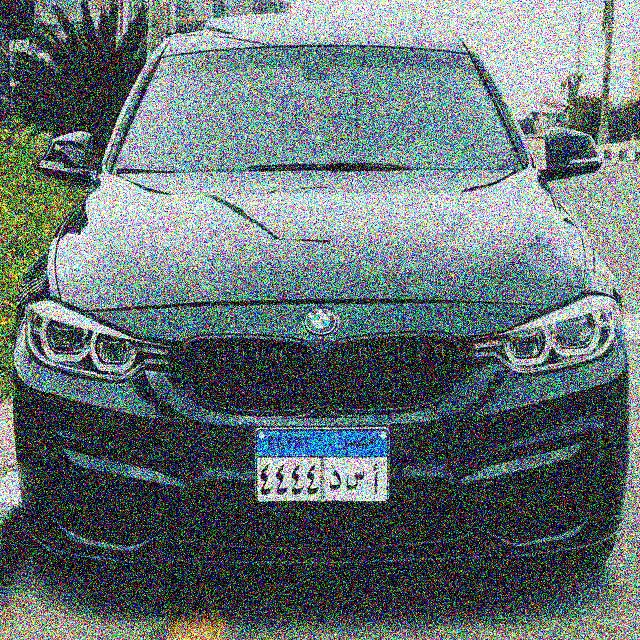License Plate: (251, 422, 395, 507)
